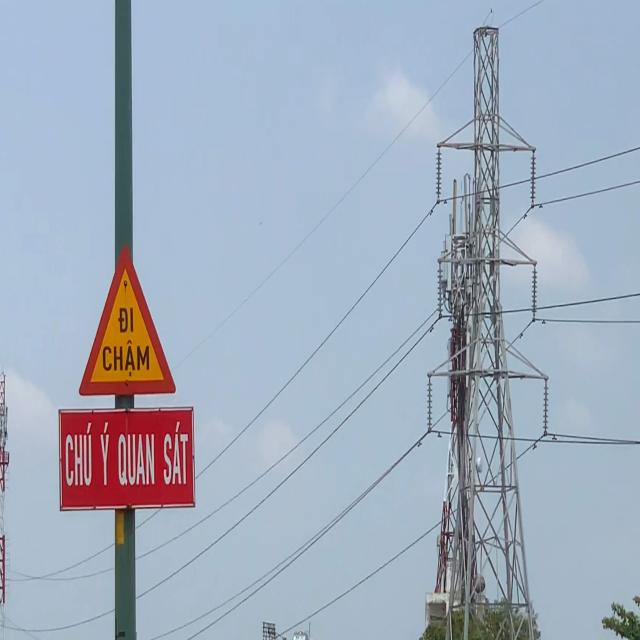Nguy hiem: (77, 240, 180, 403)
